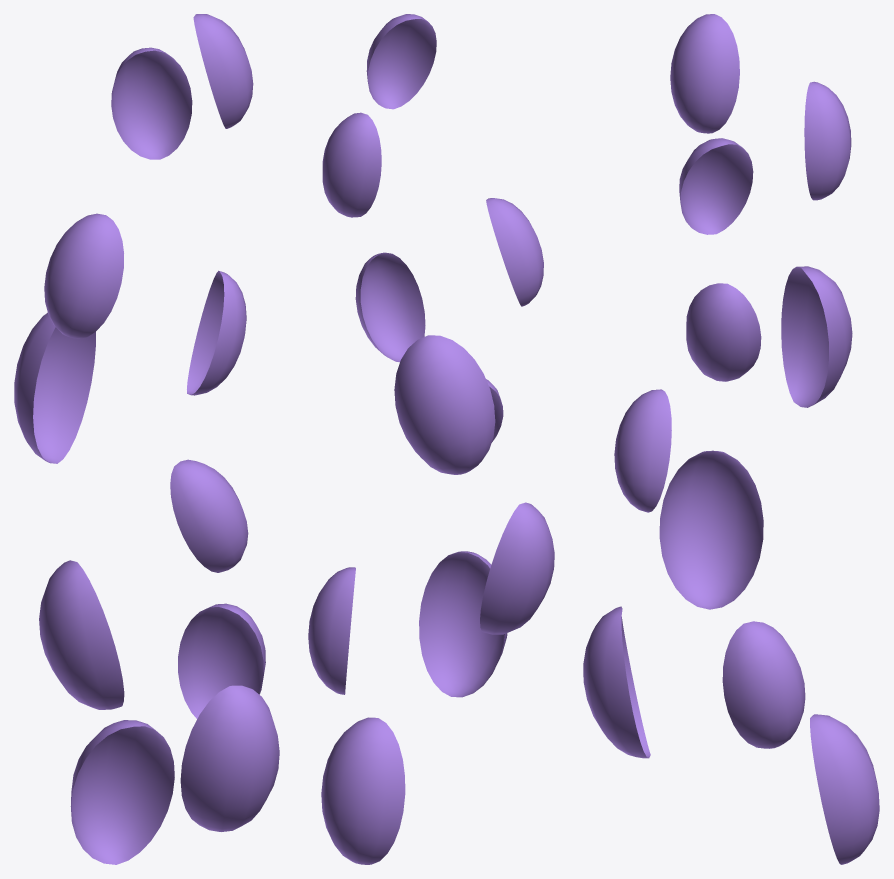
The model's file is Tubeplant2glowparts.fbx.
3 renders of one model, left to right at view 1: azimuth 30°, elevation 25°; view 2: azimuth 150°, elevation 25°; view 3: azimuth 270°, elevation 25°, orthographic. The views are drawn at different scales.
Visible parts, largest first — view 1: pasted__pasted__pSphere1 (×6), pasted__pasted__pasted__pSphere1, pasted__pSphere1 (×2), pSphere1; view 2: pasted__pasted__pSphere1 (×5), pasted__pSphere1 (×2), pasted__pasted__pasted__pSphere1, pSphere1; view 3: pasted__pasted__pSphere1 (×6), pasted__pSphere1 (×2), pasted__pasted__pasted__pSphere1, pSphere1.
Boxes of the visible parts, bbox=[...] form: pasted__pasted__pSphere1 (×6): bbox=[14, 47, 279, 831]; pasted__pasted__pasted__pSphere1: bbox=[70, 720, 174, 864]; pasted__pSphere1 (×2): bbox=[187, 14, 253, 395]; pSphere1: bbox=[44, 213, 123, 338]; pasted__pasted__pSphere1 (×5): bbox=[308, 112, 554, 697]; pasted__pSphere1 (×2): bbox=[355, 14, 436, 362]; pasted__pasted__pasted__pSphere1: bbox=[321, 717, 405, 864]; pSphere1: bbox=[486, 198, 543, 306]; pasted__pasted__pSphere1 (×6): bbox=[583, 81, 852, 758]; pasted__pSphere1 (×2): bbox=[670, 14, 761, 381]; pasted__pasted__pasted__pSphere1: bbox=[810, 714, 879, 864]; pSphere1: bbox=[679, 138, 753, 234].
Bounding box in the file's own units: 6.07 × 21.85 × 6.88.
